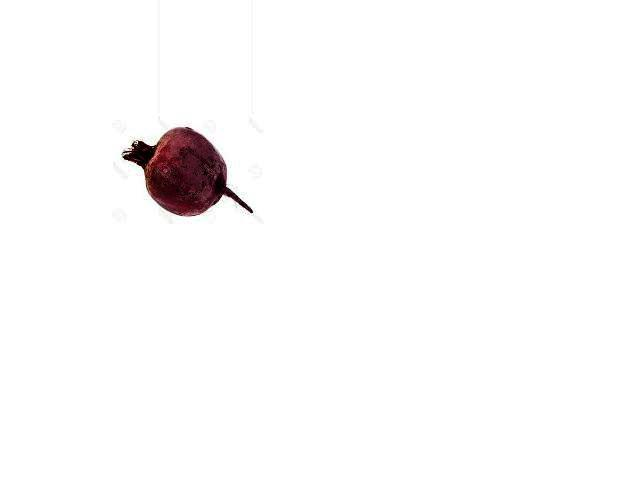beet: (121, 128, 252, 216)
